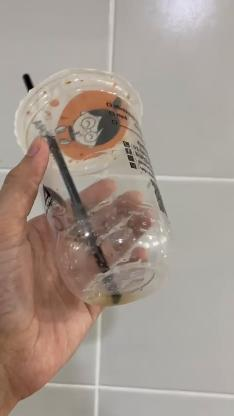Plastic Cup: (14, 68, 174, 304)
